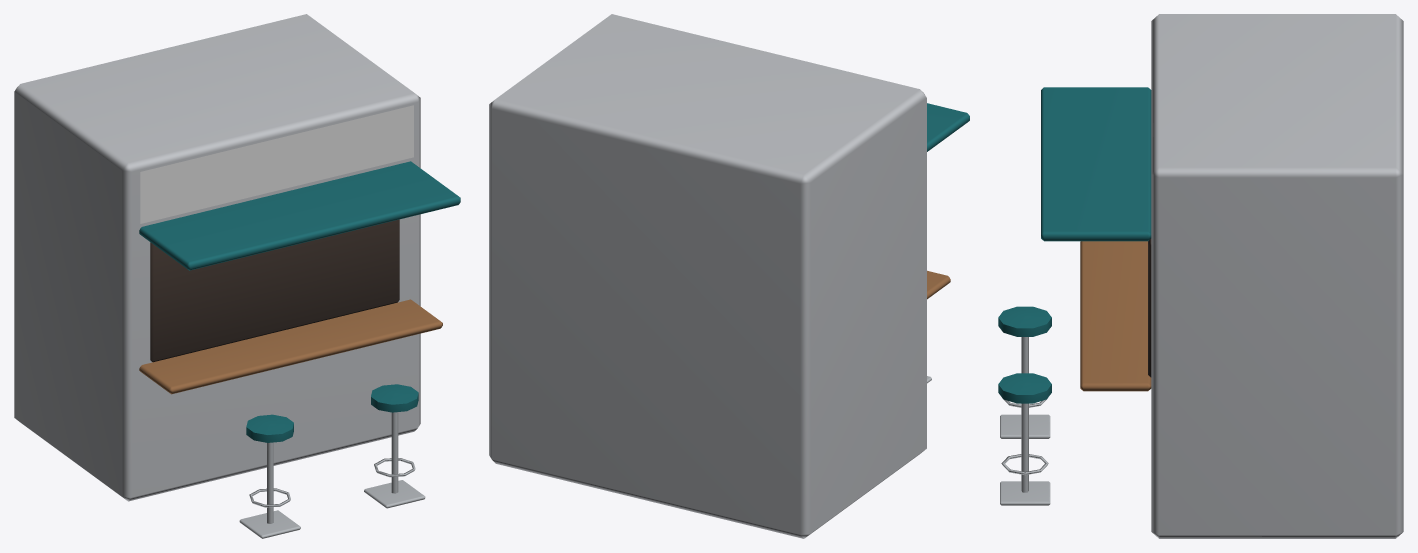
The model's file is CoffeeKioskMIA.fbx.
3 renders of one model, left to right at view 1: azimuth 30°, elevation 25°; view 2: azimuth 150°, elevation 25°; view 3: azimuth 270°, elevation 25°, orthographic. The views are drawn at different scales.
Parts seen in each view (by area): view 1: CoffeeKioskMIA; view 2: CoffeeKioskMIA; view 3: CoffeeKioskMIA.
Part boxes in pixels (x1,y1,x2,y2): CoffeeKioskMIA: (14, 14, 460, 538); CoffeeKioskMIA: (489, 14, 969, 538); CoffeeKioskMIA: (998, 14, 1403, 538).
Size of the model in its own units: 2.4 by 2.6 by 2.57.
